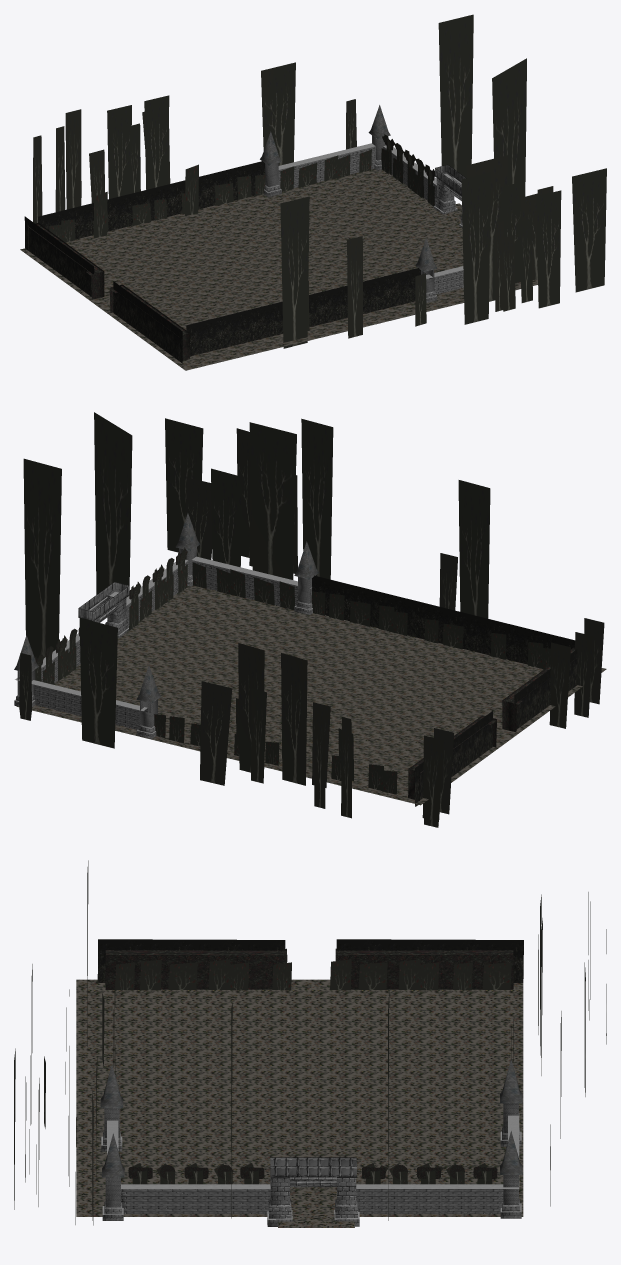
The picture shows the model from 3 angles, top to bottom: view 1: azimuth 30°, elevation 25°; view 2: azimuth 150°, elevation 25°; view 3: azimuth 270°, elevation 25°; orthographic projection. The views are drawn at different scales.
Visible parts, largest first — view 1: ground, brush, pPlane392, pPlane271, pPlane420, pPlane269, pPlane50, pPlane394, pPlane308, walls, wallvines, pPlane397 (+22 smaller); view 2: ground, brush, pPlane392, pPlane274, pPlane50, group3, walls, pPlane394, pPlane271, pPlane420, wallvines, pPlane269 (+22 smaller); view 3: ground, walls, hedge, brush, gate, group2, group1, tower_1, tower_2, tower_3, tower_4, SeemPatch.
Part boxes in pixels (x1,y1,x2,y2): ground: (20, 169, 537, 370); brush: (24, 161, 420, 363); pPlane392: (438, 14, 473, 177); pPlane271: (461, 172, 490, 324); pPlane420: (280, 196, 309, 348); pPlane269: (572, 168, 606, 292); pPlane50: (492, 58, 526, 197); pPlane394: (261, 62, 295, 165); pPlane308: (536, 190, 561, 308); walls: (278, 143, 463, 294); wallvines: (280, 148, 444, 272); pPlane397: (144, 95, 169, 189); ground: (16, 585, 606, 805); brush: (312, 575, 577, 806); pPlane392: (23, 458, 61, 658); pPlane274: (249, 422, 296, 579); pPlane50: (94, 412, 132, 596); group3: (154, 591, 550, 794); walls: (15, 556, 311, 729); pPlane394: (79, 617, 117, 748); pPlane271: (301, 418, 333, 579); pPlane420: (458, 480, 490, 618); wallvines: (35, 562, 294, 684); pPlane269: (165, 418, 203, 552); ground: (76, 979, 523, 1216); walls: (107, 1114, 519, 1213); hedge: (105, 948, 513, 989); brush: (97, 939, 523, 1067); gate: (267, 1157, 359, 1226); group2: (330, 959, 511, 990); group1: (115, 959, 291, 990); tower_1: (102, 1133, 124, 1220); tower_2: (500, 1131, 522, 1218); tower_3: (100, 1064, 123, 1151); tower_4: (500, 1059, 522, 1146); SeemPatch: (278, 1214, 354, 1227).
Size of what is drawn, in the model's own units: 250 by 114 by 226.
12 materials, 11 textured.
